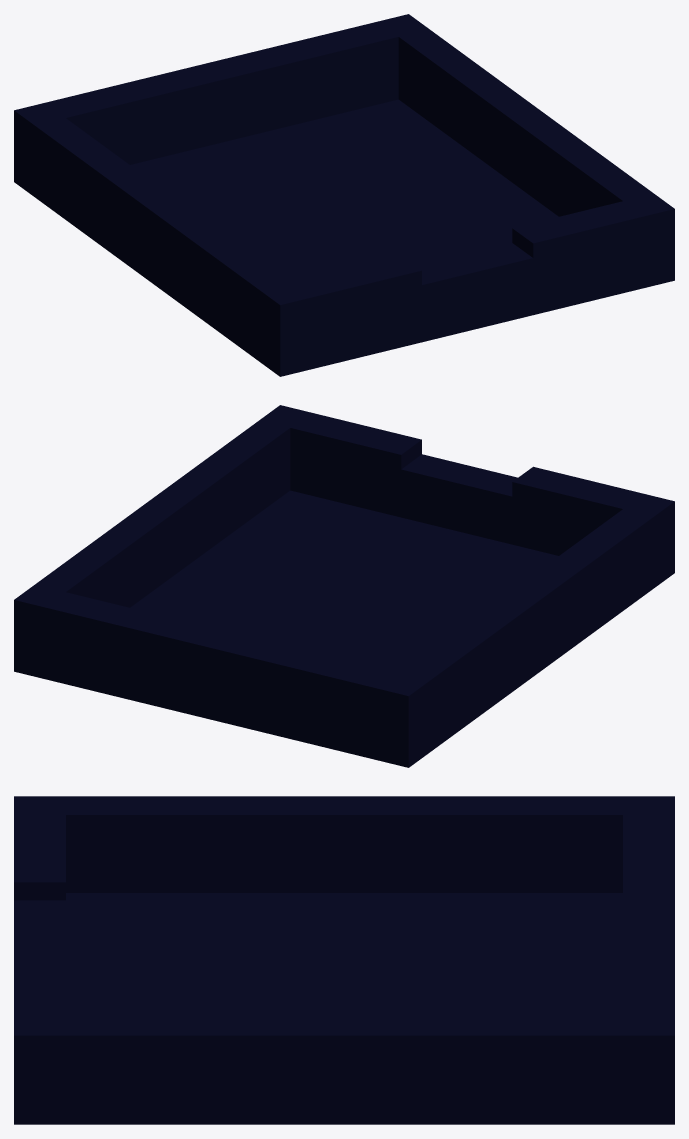
Rendered from CajaDeCarta.fbx.
3 views of the same model, one above another, from view 1: azimuth 30°, elevation 25°; view 2: azimuth 150°, elevation 25°; view 3: azimuth 270°, elevation 25° (orthographic). The views are drawn at different scales.
Parts seen in each view (by area): view 1: Cube; view 2: Cube; view 3: Cube.
Boxes of the visible parts, x1,y1,x2,y2 form: Cube: (14,14,674,376); Cube: (14,405,674,767); Cube: (14,796,674,1124).
Size of the model in its own units: 247 by 42.84 by 288.
